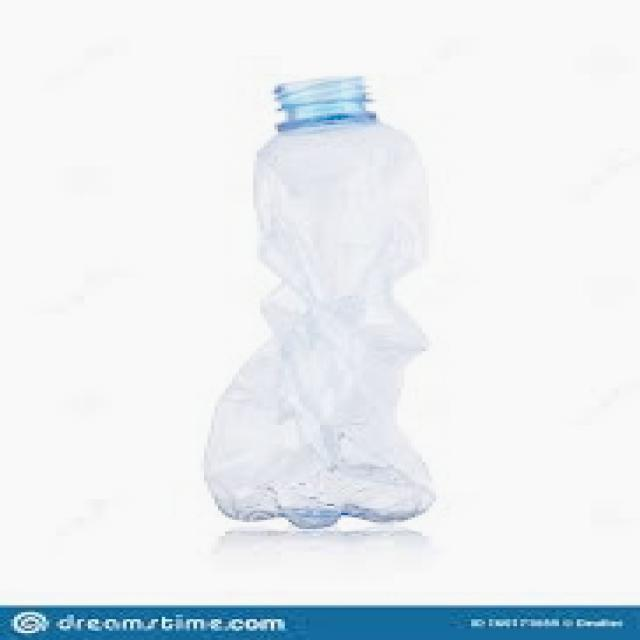BIODEGRADABLE: (178, 58, 470, 531)
